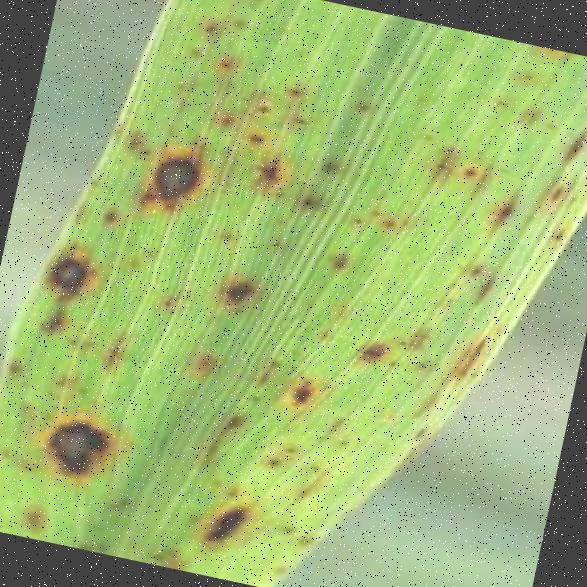Brown_Spot: (20, 402, 132, 492), (130, 122, 216, 222), (192, 483, 262, 560), (202, 259, 268, 326), (240, 136, 300, 200), (85, 314, 141, 378), (34, 243, 96, 300), (449, 319, 495, 388), (476, 176, 530, 234), (392, 308, 439, 361), (549, 108, 587, 171), (346, 326, 394, 373), (421, 136, 462, 189), (280, 366, 322, 415), (30, 300, 72, 342), (186, 336, 223, 380), (88, 196, 129, 234), (12, 495, 53, 533), (468, 264, 500, 310), (216, 402, 253, 438), (286, 470, 323, 506), (318, 242, 355, 277), (192, 10, 229, 44), (540, 213, 573, 250), (174, 34, 214, 64), (208, 218, 243, 252), (209, 102, 243, 134), (210, 43, 242, 77), (508, 58, 542, 89), (156, 538, 191, 568), (117, 123, 146, 159), (514, 96, 544, 130), (288, 523, 320, 554), (275, 75, 309, 104), (0, 347, 27, 381), (70, 527, 108, 551), (292, 184, 322, 214), (235, 124, 268, 151), (152, 287, 182, 315), (343, 91, 376, 116), (66, 195, 90, 229), (314, 148, 342, 176), (406, 418, 434, 446), (258, 229, 288, 255), (540, 175, 566, 204), (256, 448, 283, 474), (454, 156, 480, 182), (461, 254, 487, 280), (406, 350, 434, 374), (280, 107, 312, 128), (178, 504, 206, 528), (344, 207, 371, 231), (224, 7, 250, 31), (240, 385, 268, 407), (108, 488, 136, 510), (272, 516, 297, 540), (488, 88, 514, 111), (376, 210, 400, 234), (266, 556, 292, 578), (311, 320, 333, 346), (377, 352, 402, 374), (143, 542, 166, 564), (218, 478, 242, 499), (120, 252, 144, 272), (81, 169, 105, 189), (416, 124, 436, 147), (410, 86, 433, 106), (250, 95, 271, 116), (280, 438, 302, 458), (139, 242, 162, 261), (302, 454, 324, 473), (204, 469, 224, 488), (562, 187, 580, 208), (331, 432, 350, 450), (394, 214, 414, 231), (539, 114, 557, 132), (471, 140, 487, 158), (137, 143, 155, 159), (441, 272, 457, 290), (0, 440, 11, 459), (88, 394, 102, 408), (72, 381, 86, 395), (42, 384, 56, 398), (243, 0, 266, 7)
